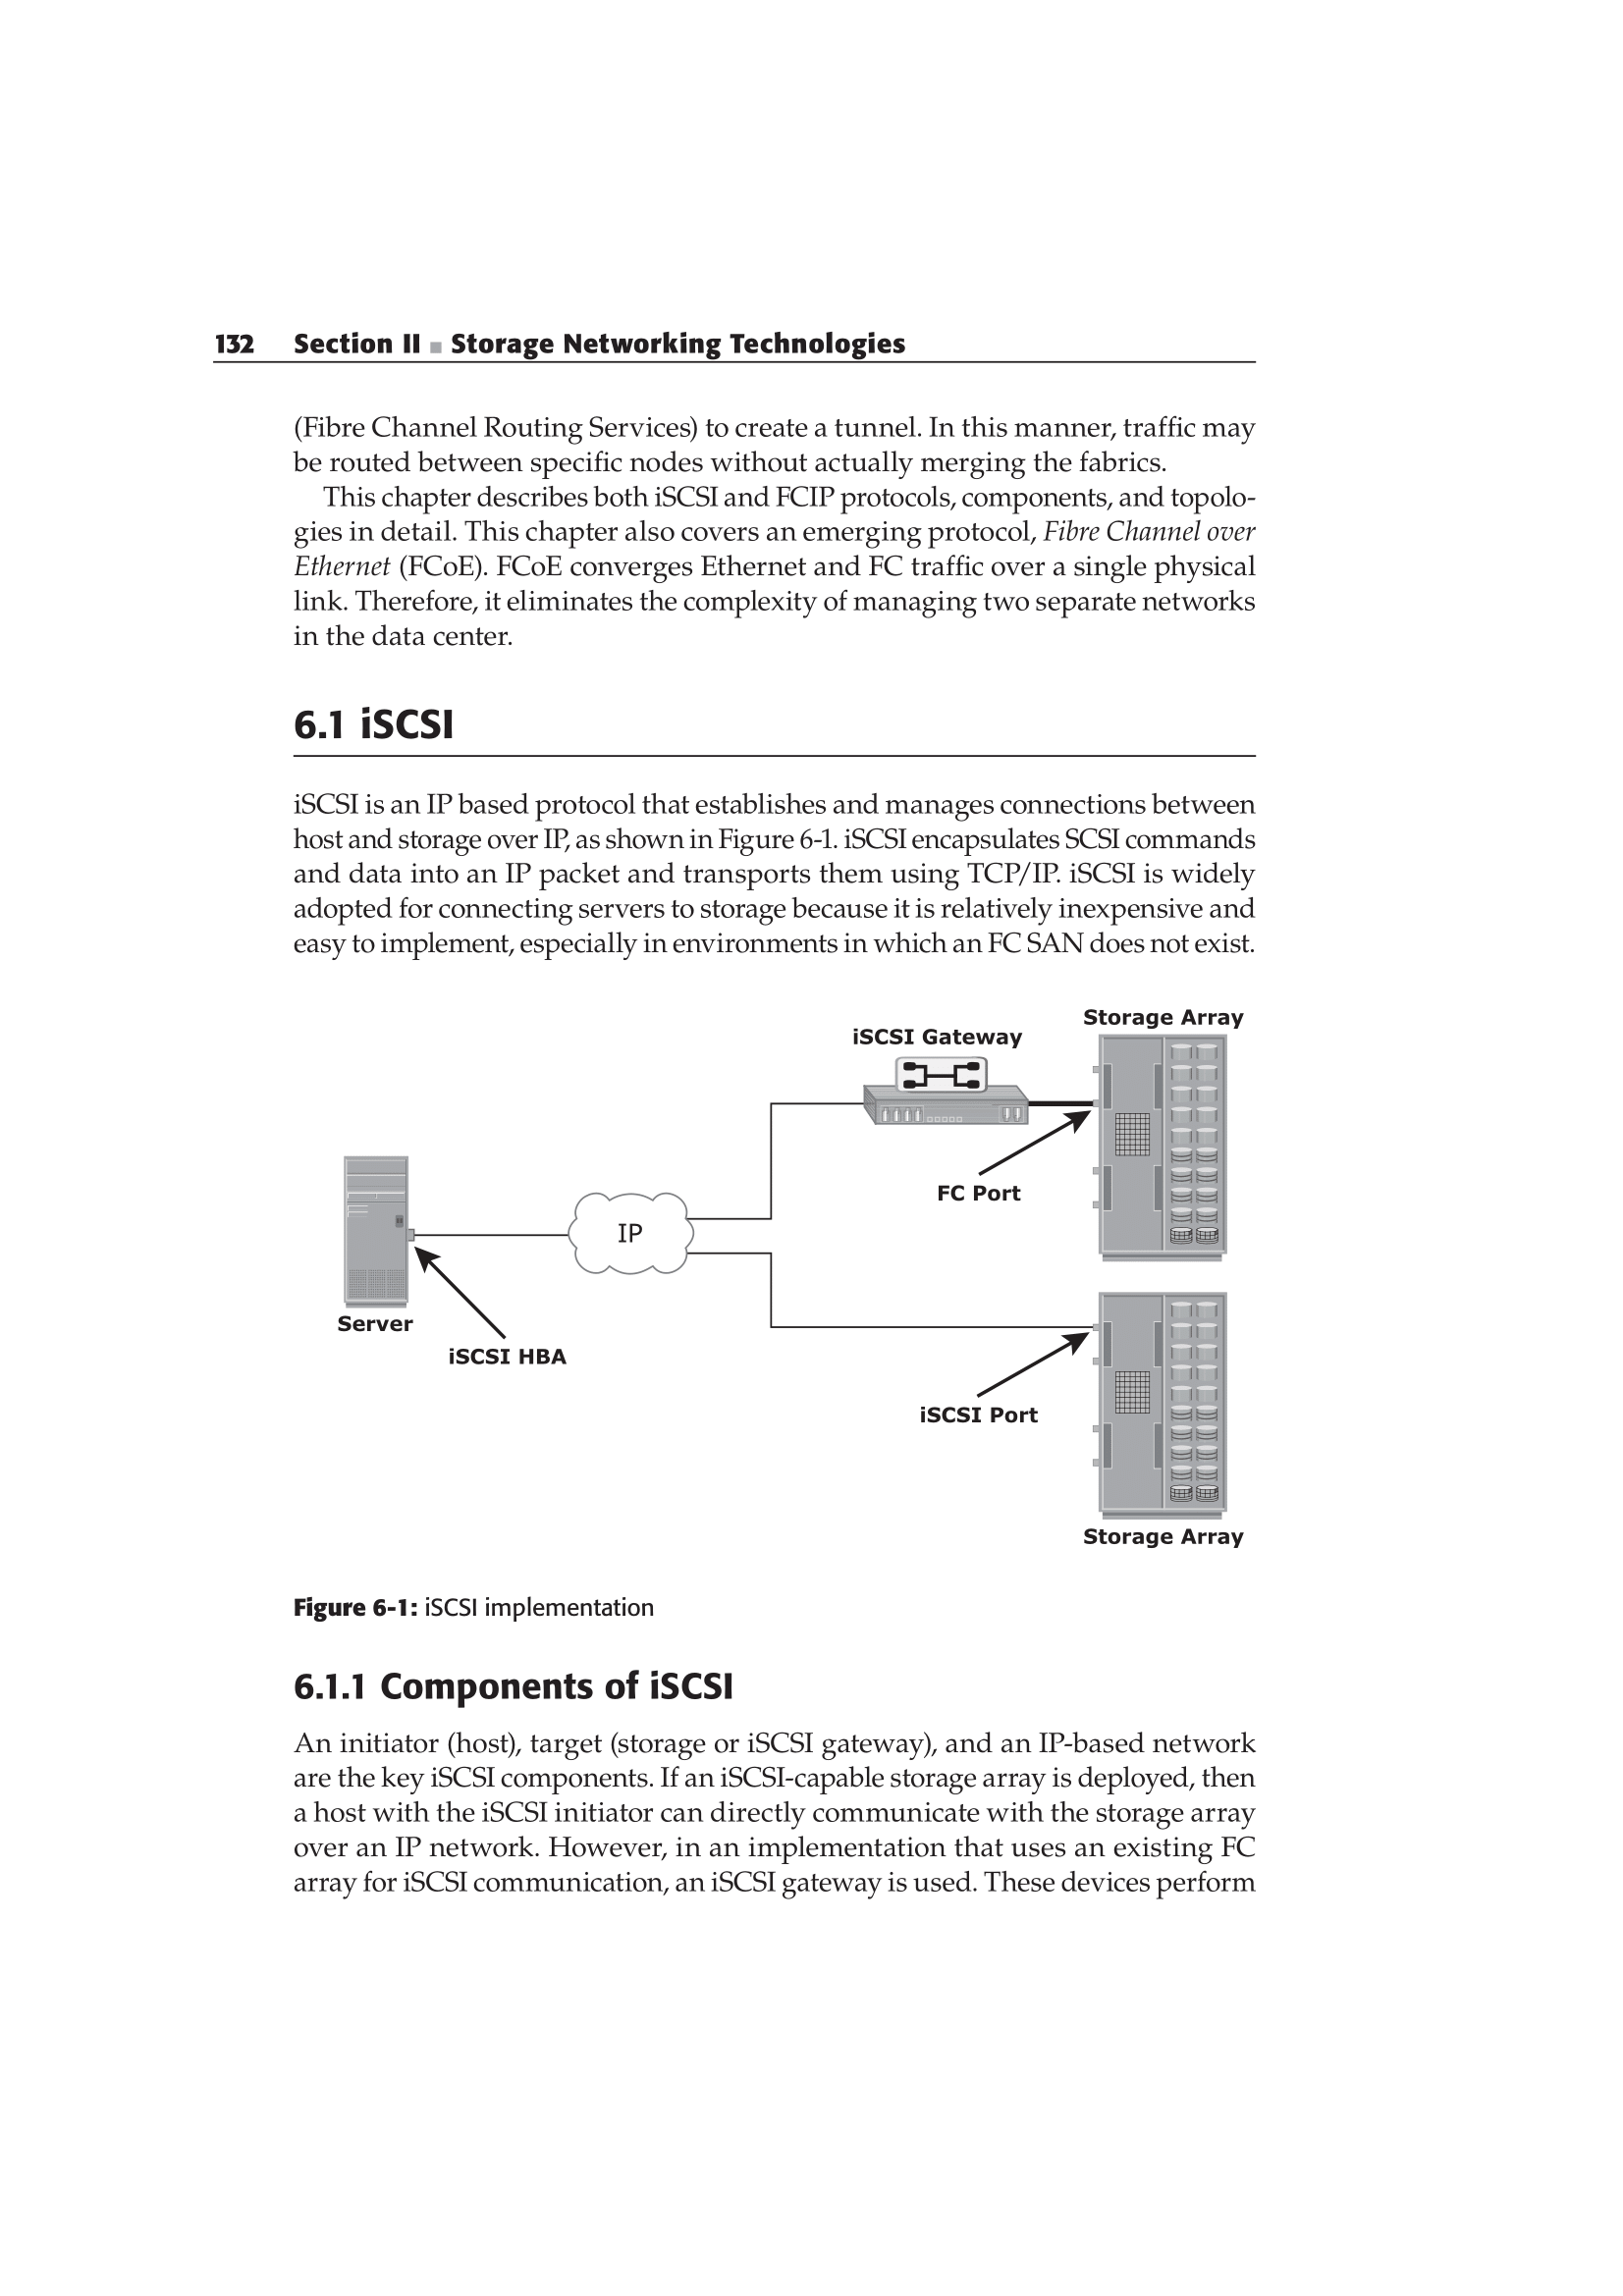Image: (292, 985, 1268, 1559)
Paragraph: (286, 1724, 1266, 1908), (288, 481, 1259, 662), (286, 785, 1258, 962), (283, 400, 1268, 481), (206, 314, 927, 360), (285, 1655, 750, 1708), (285, 1587, 671, 1636), (278, 695, 472, 746)
